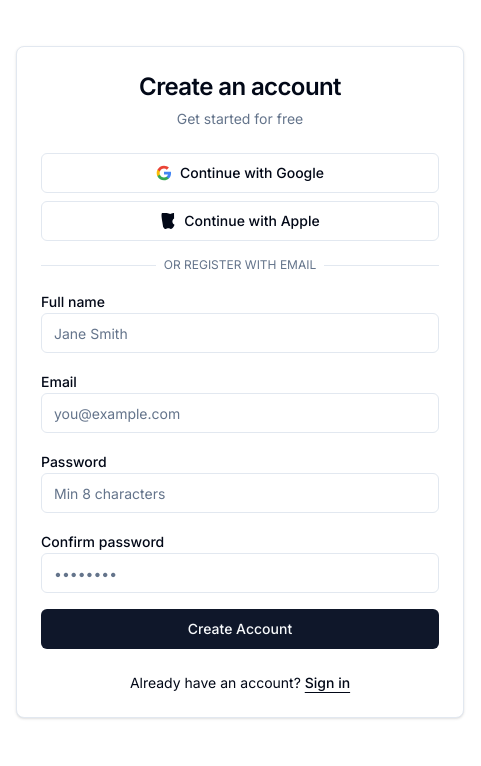
Test: RegisterPage › shows validation error for short name
Type "J" into the field labelled "Full name" at (240, 333), box [41, 313, 439, 353]
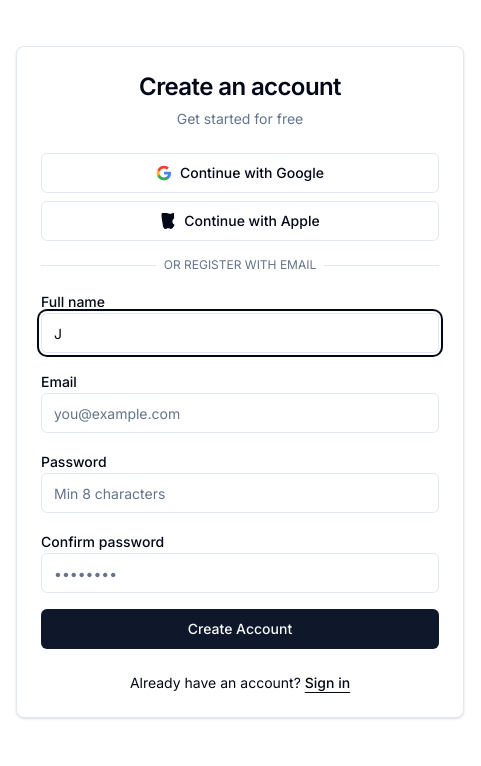
Click the button "Create Account" at (240, 629), box [41, 609, 439, 649]
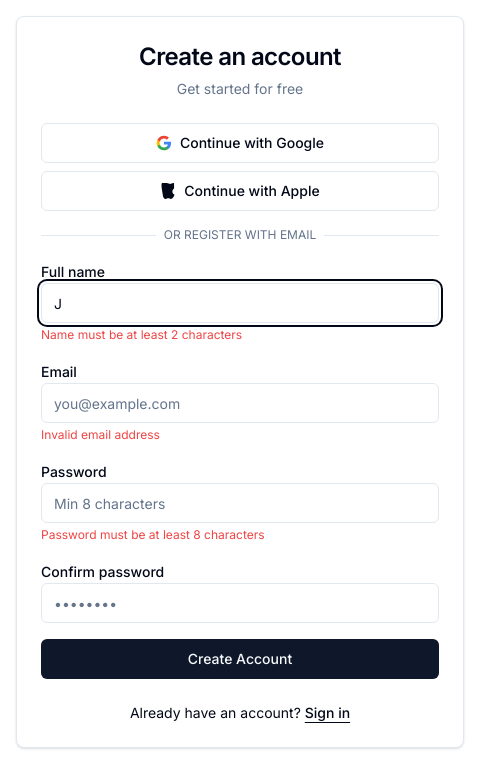
Check: the text "Name must be at least 2 characters" is shown, box [41, 327, 242, 342]
